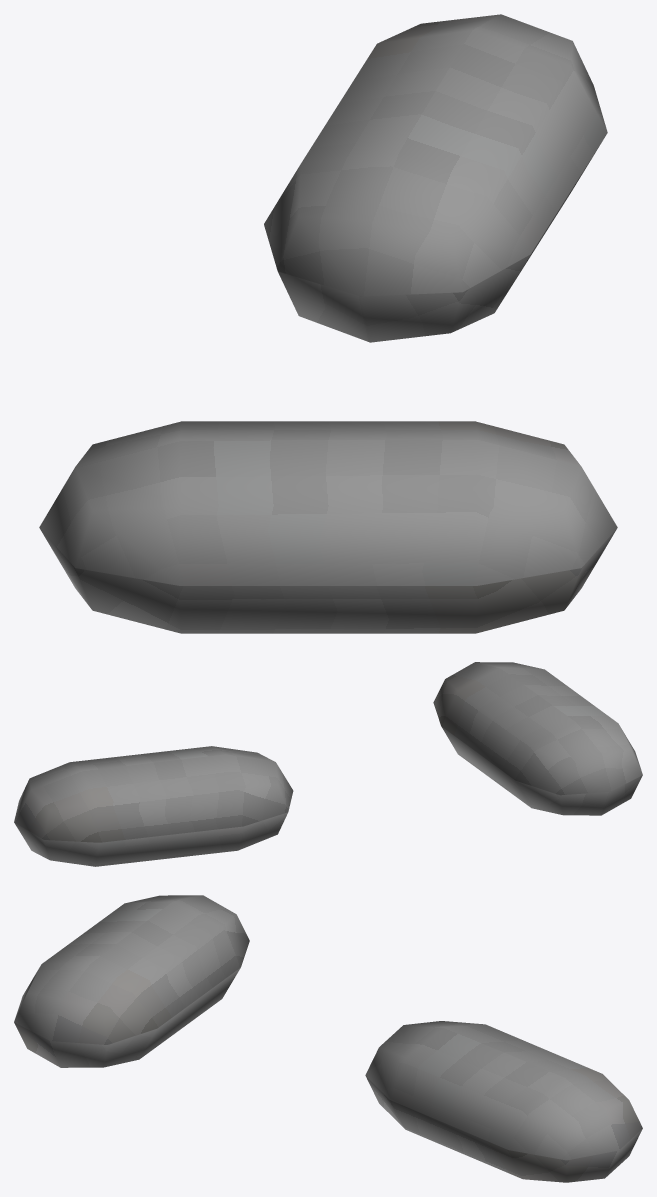
File: pills_1.glb
3 views of the same model, one above another, from view 1: azimuth 30°, elevation 25°; view 2: azimuth 150°, elevation 25°; view 3: azimuth 270°, elevation 25° (orthographic). The views are drawn at different scales.
Visible parts, largest first — view 1: pills_1; view 2: pills_1; view 3: pills_1.
Part boxes in pixels (box(x1,y1,x2,y2)): pills_1: box(39, 14, 617, 633); pills_1: box(14, 662, 642, 866); pills_1: box(14, 895, 642, 1182).
Size of the model in its own units: 0.0648 by 0.0123 by 0.0711.
1 material, 1 textured.
